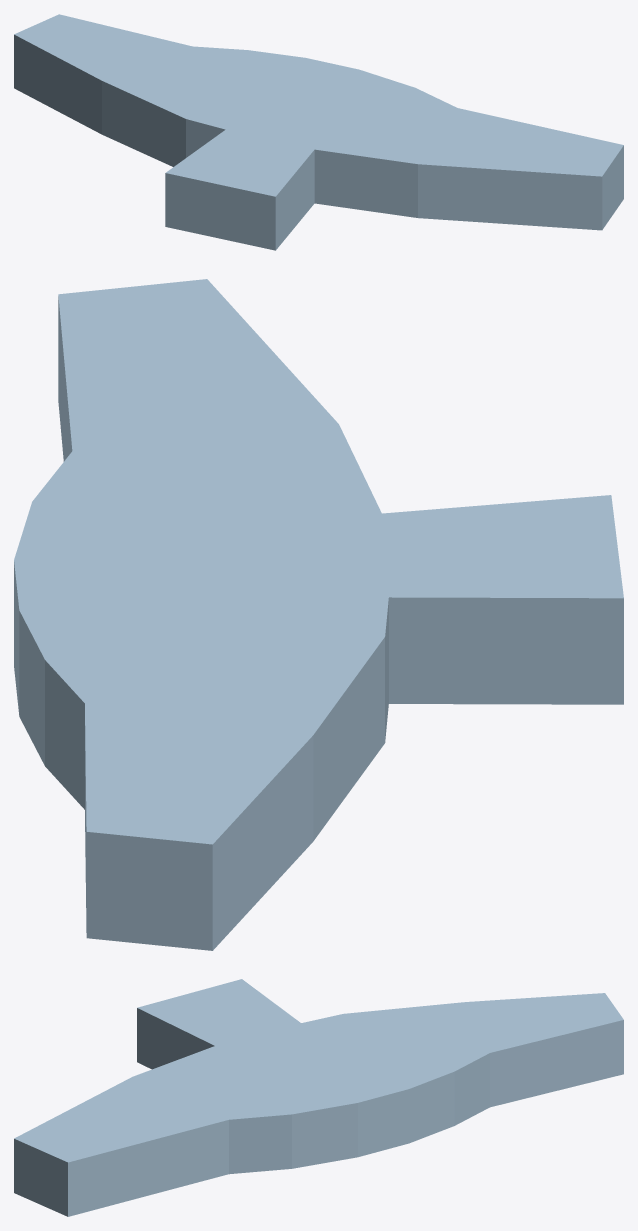
Rendered from osm_way_223859827.glb.
3 views of the same model, one above another, from view 1: azimuth 30°, elevation 25°; view 2: azimuth 150°, elevation 25°; view 3: azimuth 270°, elevation 25° (orthographic). The views are drawn at different scales.
Parts seen in each view (by area): view 1: osm_way_223859827; view 2: osm_way_223859827; view 3: osm_way_223859827.
Boxes of the visible parts, x1,y1,x2,y2 form: osm_way_223859827: [14, 14, 623, 250]; osm_way_223859827: [14, 279, 623, 950]; osm_way_223859827: [14, 979, 623, 1216].
Bounding box in the file's own units: 75.94 × 10.5 × 107.
